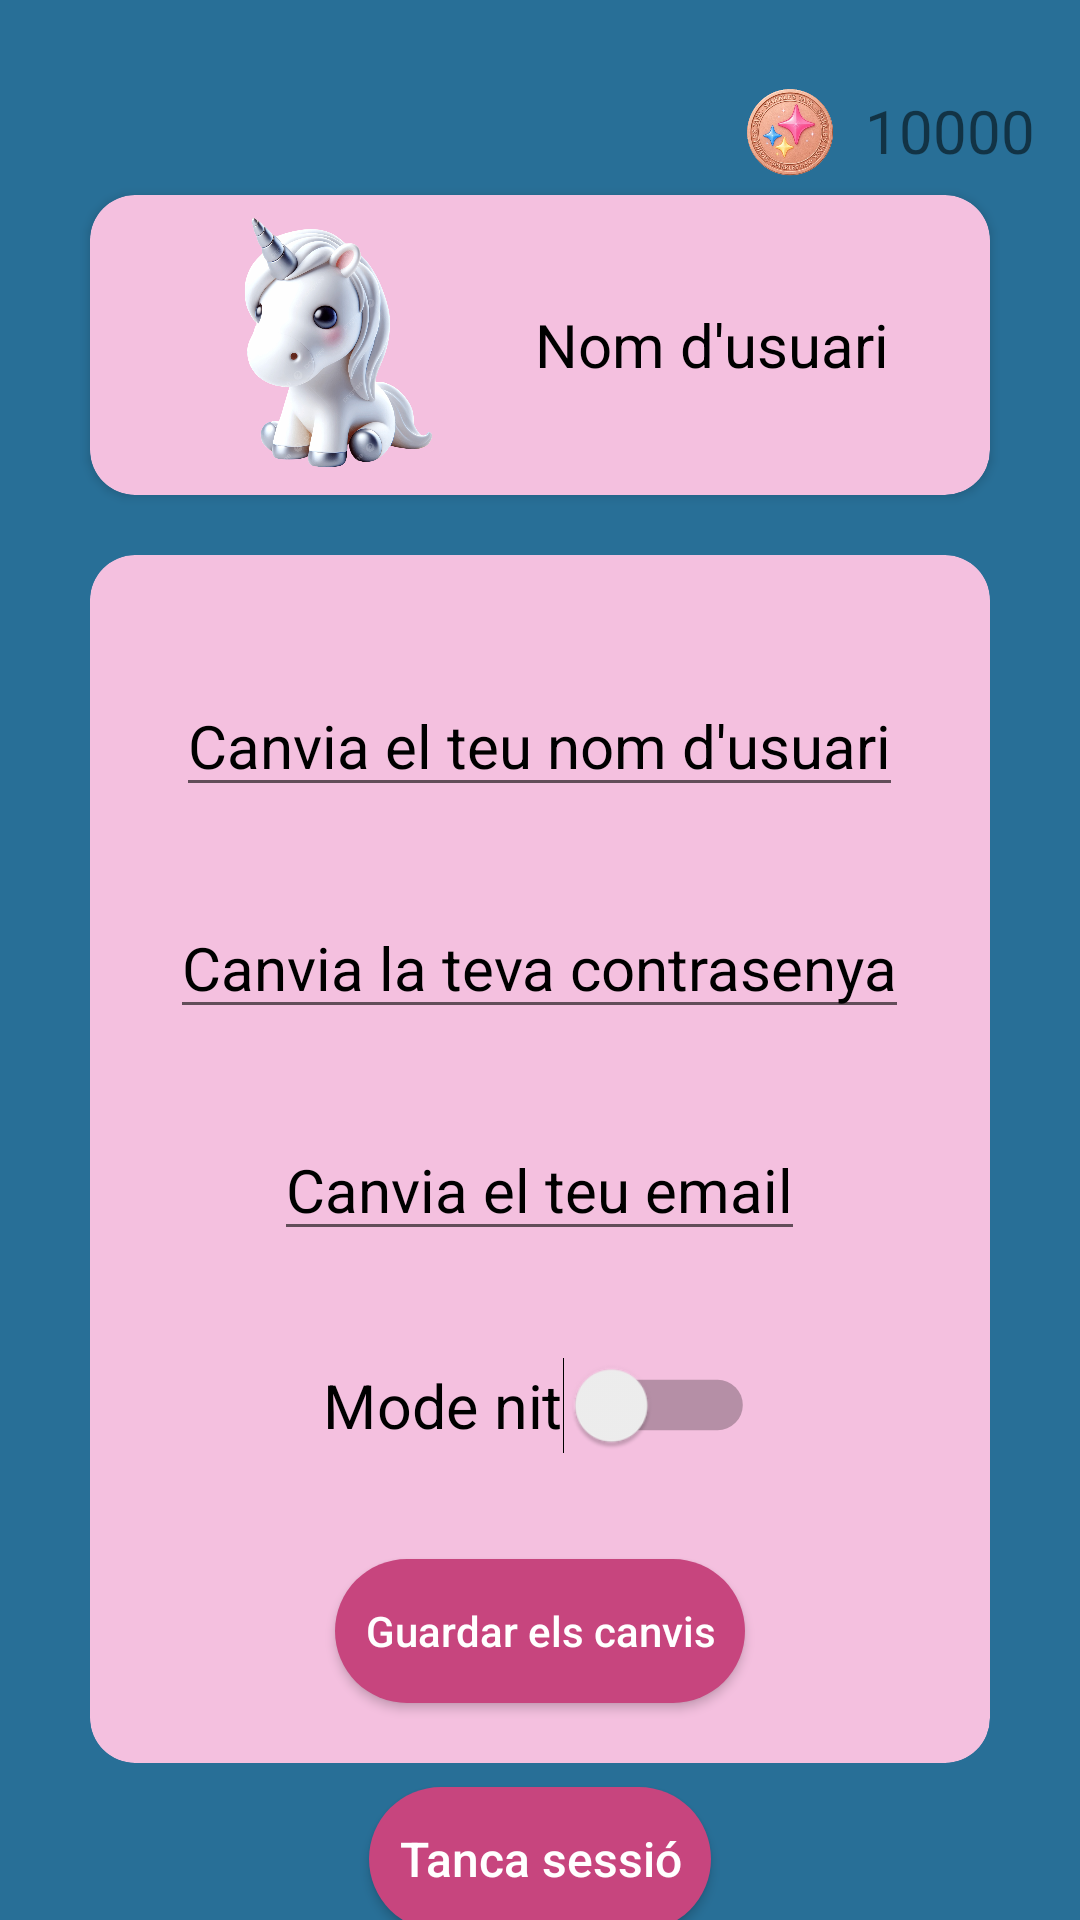

Icons on this 1080w x 1920h Android screen, each with the point to tap as [x,y]:
Sparks imatge: [790,132]
